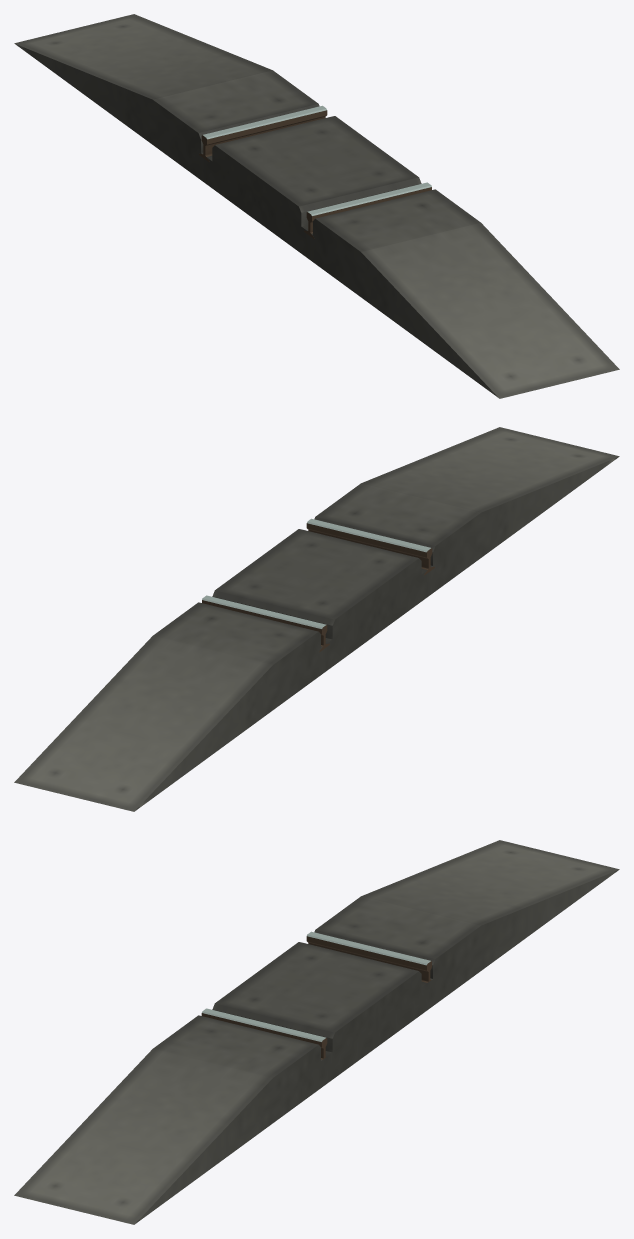
File: atsf_crossing_track_standard_concrete.obj
3 views of the same model, one above another, from view 1: azimuth 30°, elevation 25°; view 2: azimuth 150°, elevation 25°; view 3: azimuth 330°, elevation 25° (orthographic).
Parts seen in each view (by area): view 1: RAIL_BASE.001_Cube.003, RAIL_RIGHT_Cube.010, RAIL_LEFT_Cube.001; view 2: RAIL_BASE.001_Cube.003, RAIL_LEFT_Cube.001, RAIL_RIGHT_Cube.010; view 3: RAIL_BASE.001_Cube.003, RAIL_RIGHT_Cube.010, RAIL_LEFT_Cube.001.
Part boxes in pixels (x1,y1,x2,y2): RAIL_BASE.001_Cube.003: [14, 14, 619, 398]; RAIL_RIGHT_Cube.010: [199, 105, 327, 162]; RAIL_LEFT_Cube.001: [304, 182, 431, 239]; RAIL_BASE.001_Cube.003: [14, 427, 619, 811]; RAIL_LEFT_Cube.001: [306, 518, 434, 575]; RAIL_RIGHT_Cube.010: [202, 595, 329, 652]; RAIL_BASE.001_Cube.003: [14, 840, 619, 1224]; RAIL_RIGHT_Cube.010: [306, 931, 431, 982]; RAIL_LEFT_Cube.001: [201, 1008, 327, 1059].
Size of the model in its own units: 1 by 0.3683 by 7.
2 materials, 2 textured.
